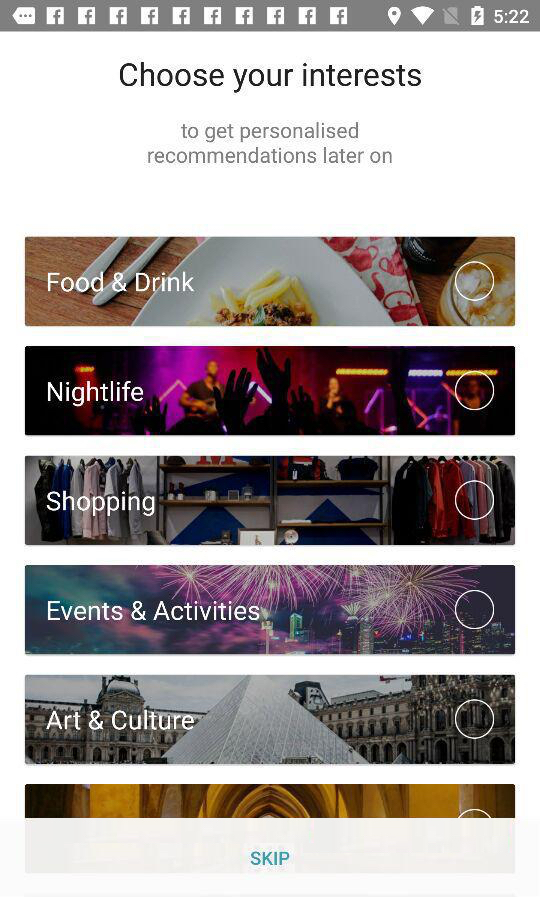CheckedTextView: (46, 698, 495, 740), (46, 480, 495, 521), (47, 261, 495, 302), (48, 371, 495, 412), (47, 590, 495, 630)
Image: (25, 565, 516, 655), (26, 237, 516, 327), (26, 456, 516, 546), (26, 346, 515, 436), (26, 675, 515, 765), (26, 784, 516, 818)
Text: (148, 122, 393, 164), (120, 62, 422, 95), (47, 599, 261, 622), (46, 710, 195, 732), (47, 272, 197, 293), (46, 490, 156, 518), (48, 379, 145, 408), (250, 851, 291, 866)
UpperTaskBar: (1, 1, 540, 33)
